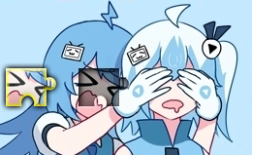gap: (79, 68, 129, 105)
